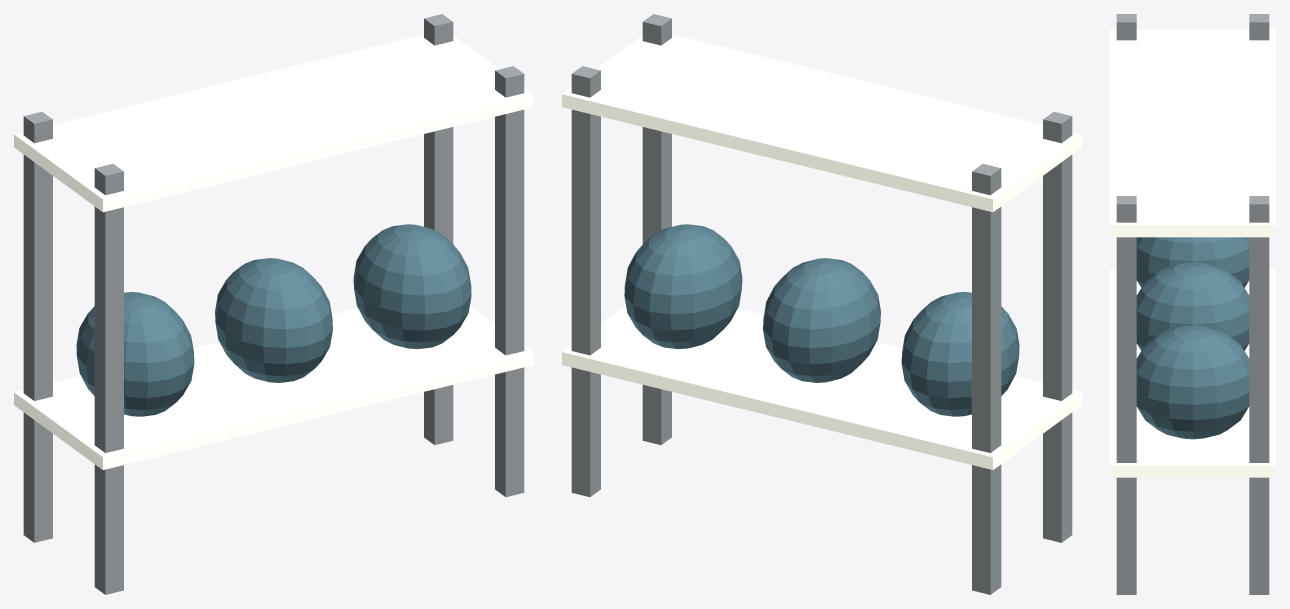
File: helmet-equipment-rack.glb
The picture shows the model from 3 angles, left to right: view 1: azimuth 30°, elevation 25°; view 2: azimuth 150°, elevation 25°; view 3: azimuth 270°, elevation 25°; orthographic projection. The views are drawn at different scales.
Visible parts, largest first — view 1: helmet-rack; view 2: helmet-rack; view 3: helmet-rack.
Boxes of the visible parts, x1=… form: helmet-rack: x1=14, y1=14, x2=533, y2=594; helmet-rack: x1=562, y1=14, x2=1081, y2=594; helmet-rack: x1=1110, y1=14, x2=1275, y2=594.
Size of the model in its own units: 1.4 by 1.3 by 0.4999.
